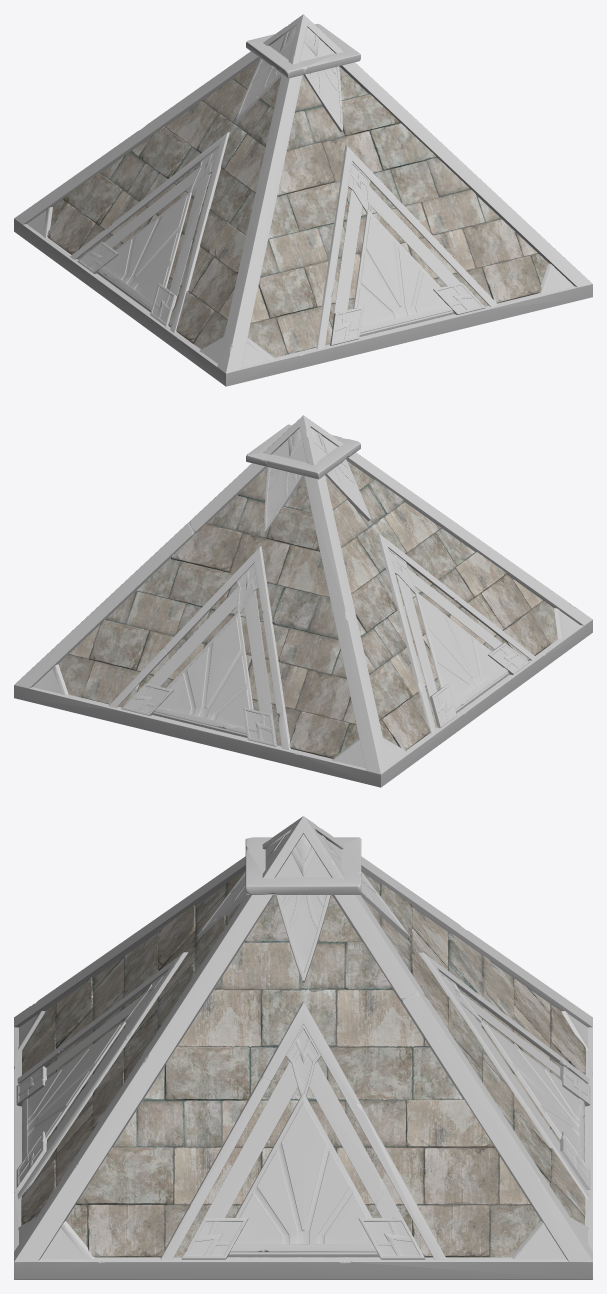
3 views of the same model, one above another, from view 1: azimuth 30°, elevation 25°; view 2: azimuth 150°, elevation 25°; view 3: azimuth 270°, elevation 25° (orthographic). The views are drawn at different scales.
Visible parts, largest first — view 1: SM_DK_Pyramid_Top_01v1_LOD0; view 2: SM_DK_Pyramid_Top_01v1_LOD0; view 3: SM_DK_Pyramid_Top_01v1_LOD0.
Part boxes in pixels (box(x1,y1,x2,y2)): SM_DK_Pyramid_Top_01v1_LOD0: box(14, 14, 592, 386); SM_DK_Pyramid_Top_01v1_LOD0: box(14, 415, 592, 787); SM_DK_Pyramid_Top_01v1_LOD0: box(14, 816, 592, 1279).
Size of the model in its own units: 35.66 by 23.21 by 35.66.
